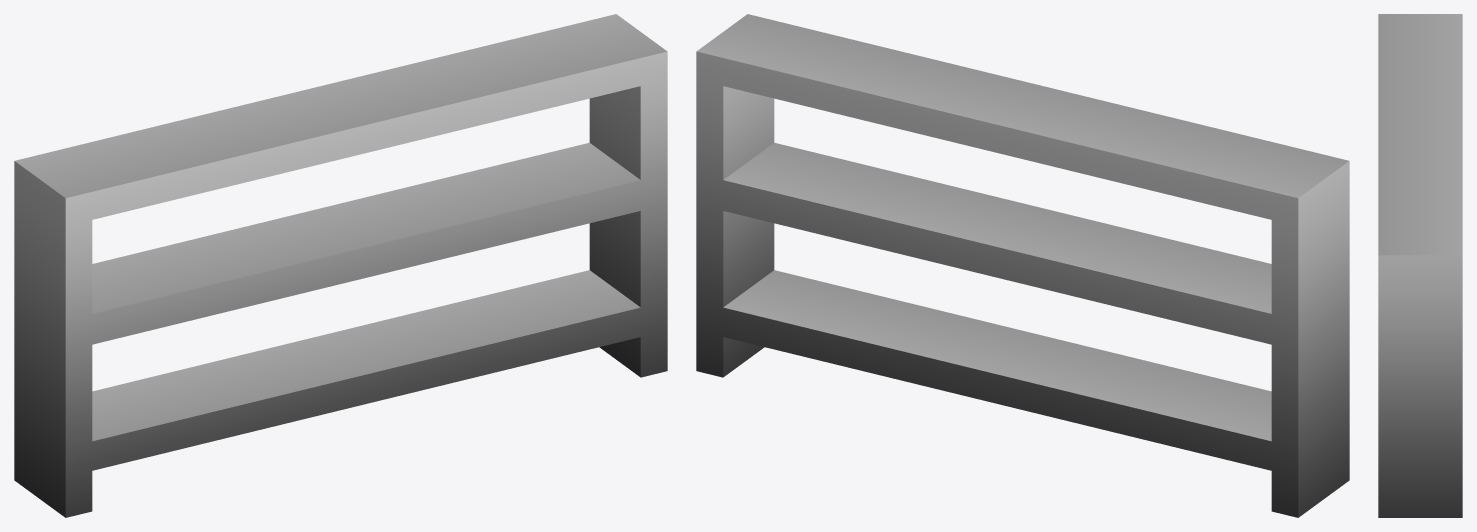
Rendered from estante.fbx.
3 renders of one model, left to right at view 1: azimuth 30°, elevation 25°; view 2: azimuth 150°, elevation 25°; view 3: azimuth 270°, elevation 25°, orthographic. The views are drawn at different scales.
Parts seen in each view (by area): view 1: Cube.002; view 2: Cube.002; view 3: Cube.002.
Boxes of the visible parts, <box> form: Cube.002: <box>14,14,667,517</box>; Cube.002: <box>696,14,1349,517</box>; Cube.002: <box>1378,14,1462,517</box>.
Bounding box in the file's own units: 264 × 134 × 38.95.
1 material, 1 textured.
